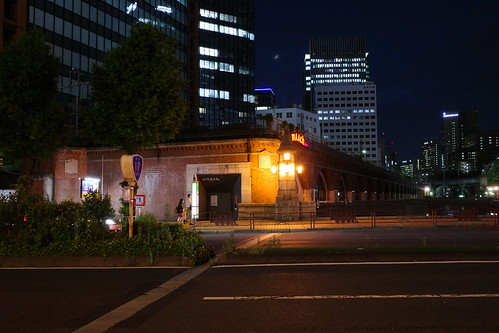building: (1, 4, 197, 140), (77, 151, 429, 219), (181, 1, 260, 130), (304, 38, 381, 162), (435, 115, 499, 178), (255, 97, 324, 129)
sky: (259, 1, 498, 119)
street: (8, 228, 499, 333)
tree: (93, 24, 184, 146), (1, 37, 62, 190)
